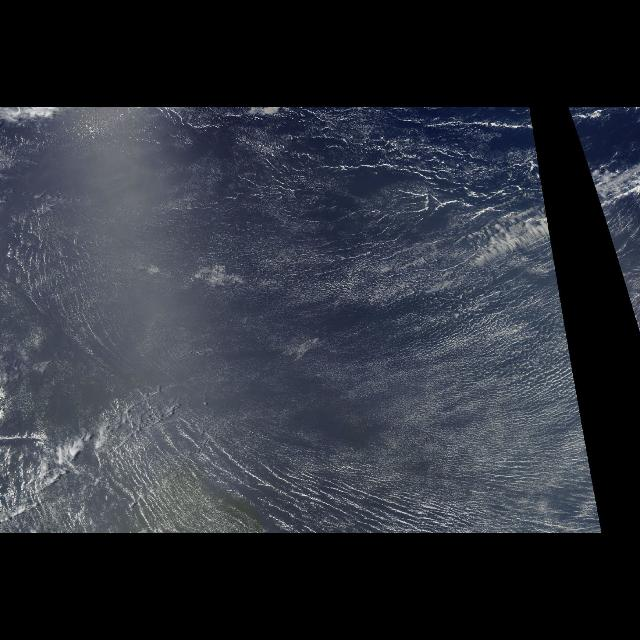Sugar: (1, 109, 603, 532), (567, 108, 639, 334)
